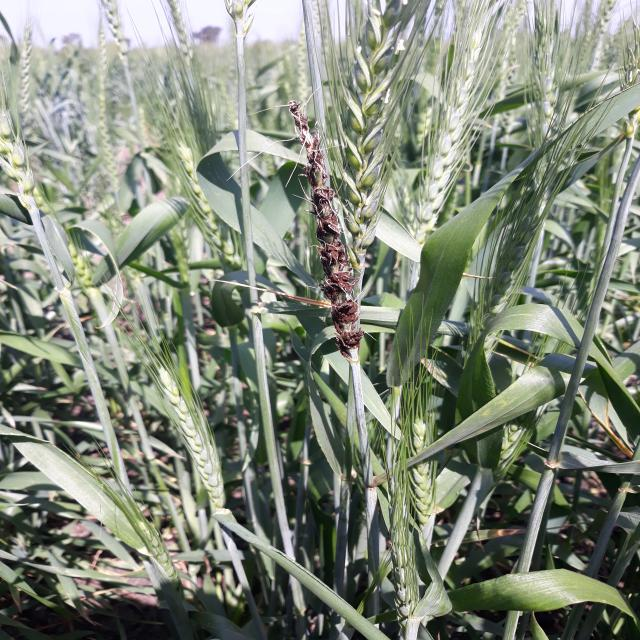healthy_wheat: (0, 90, 136, 389), (15, 423, 195, 640), (96, 310, 254, 552), (384, 352, 451, 640)
loose_charred: (246, 98, 399, 398)
